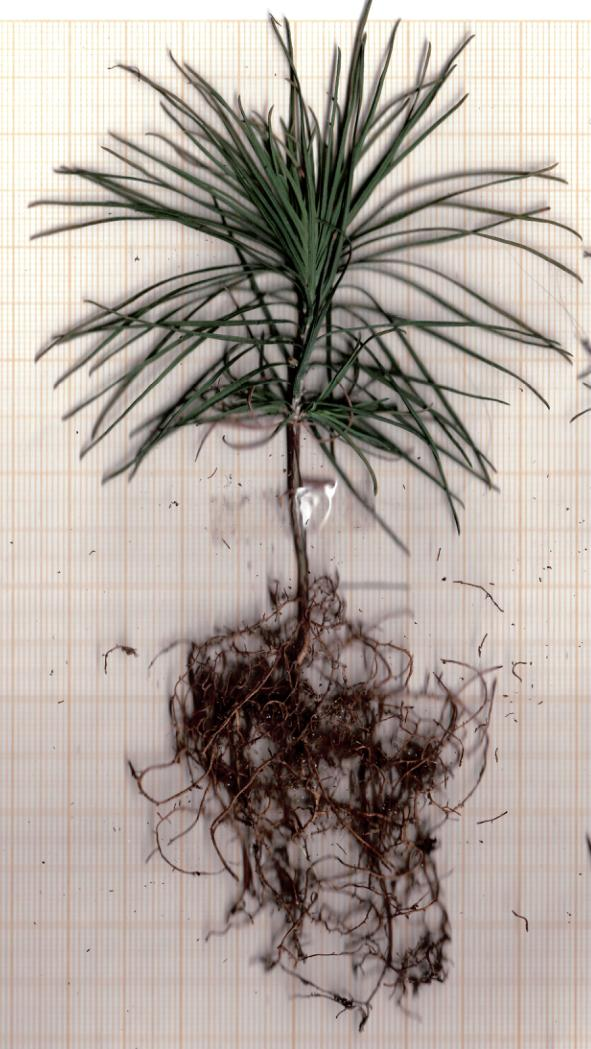flower: (29, 0, 580, 563)
root: (130, 589, 496, 1041)
stem: (280, 430, 314, 589)
